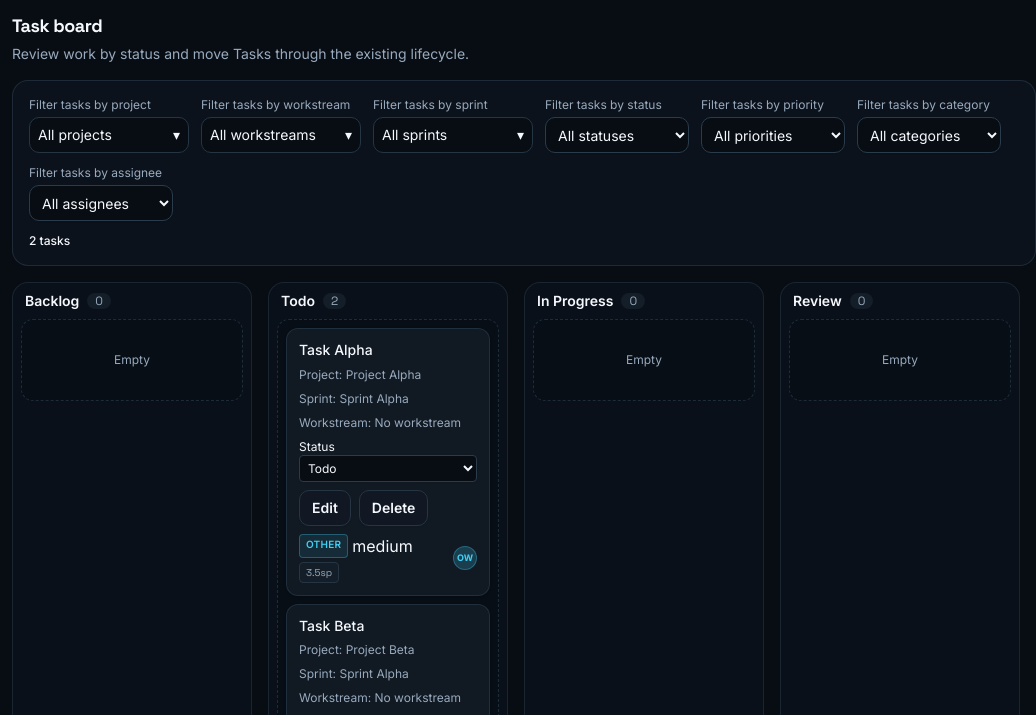
Projects UI with a mocked backend › labels task cards by project and filters by any project or all projects
Expected: the text "Project: Project Alpha" is shown, [299,366,421,382]
Expected: the text "Project: Project Beta" is shown, [299,642,414,657]
Click the button with aria-label "Filter tasks by project".
click(109, 135)  # box [29,117,189,153]
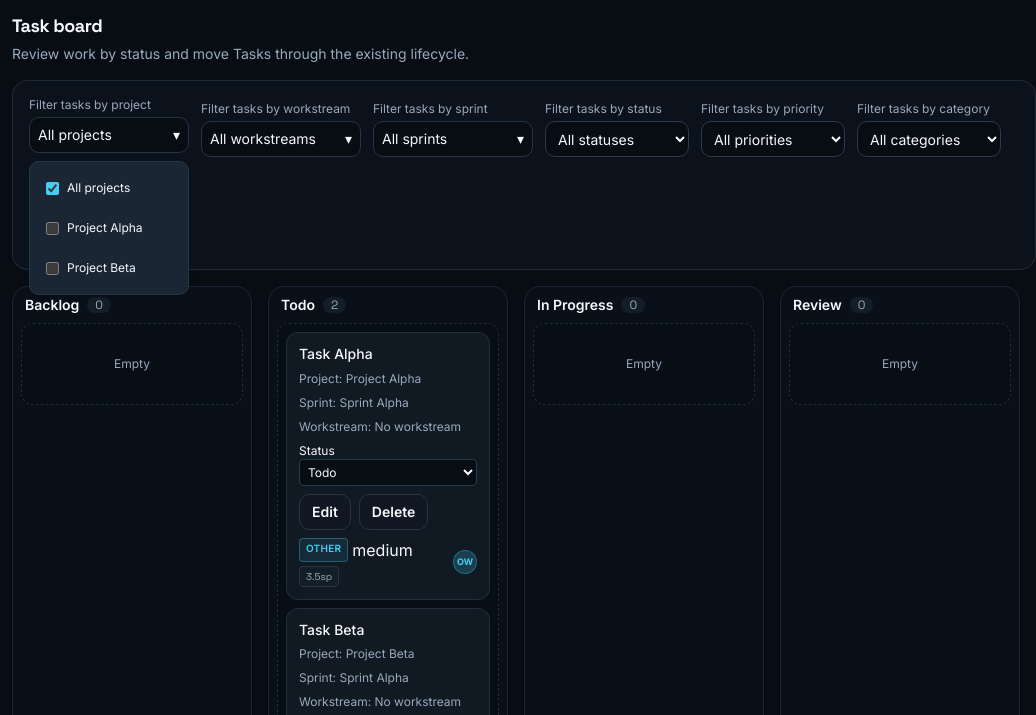
Expected: the checkbox labelled "All projects" is checked, [46,182,59,194]
Expected: the checkbox labelled "Project Alpha" is not checked
Expected: the checkbox labelled "Project Beta" is not checked, [46,262,59,274]
Click the checkbox labelled "Project Alpha".
click(52, 228)  # box [46,222,59,234]
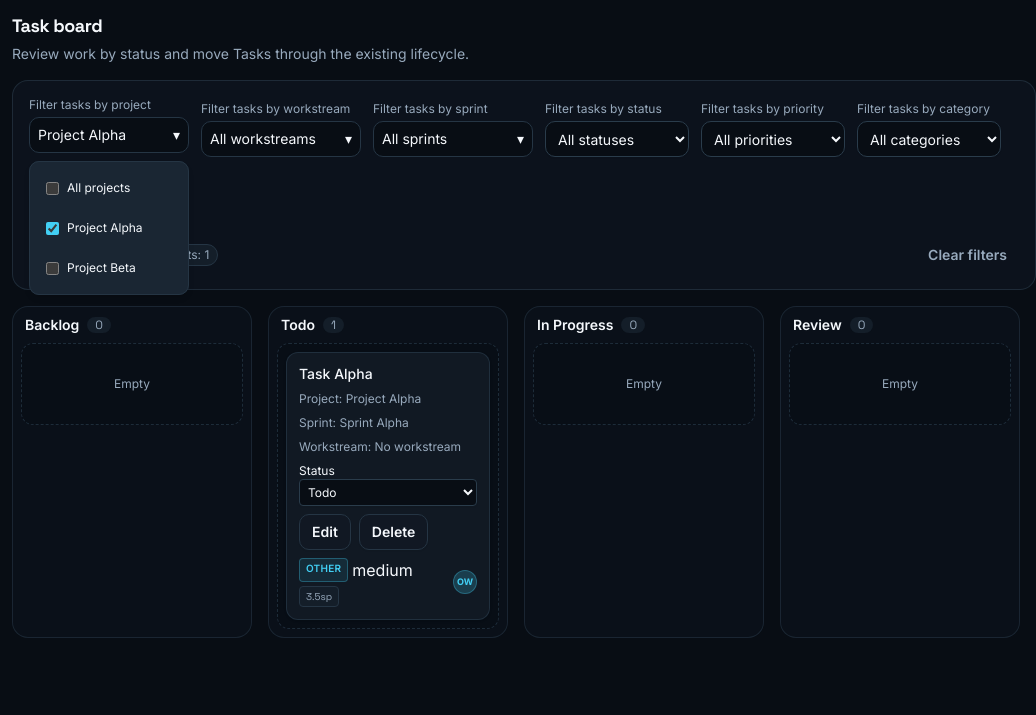
Expected: the text "Task Alpha" is shown, [299,365,373,382]
Expected: the checkbox labelled "All projects" is not checked, [46,182,59,194]
Expected: the text "Task Beta" is gone
Click the checkbox labelled "Project Beta".
click(52, 268)  # box [46,262,59,274]
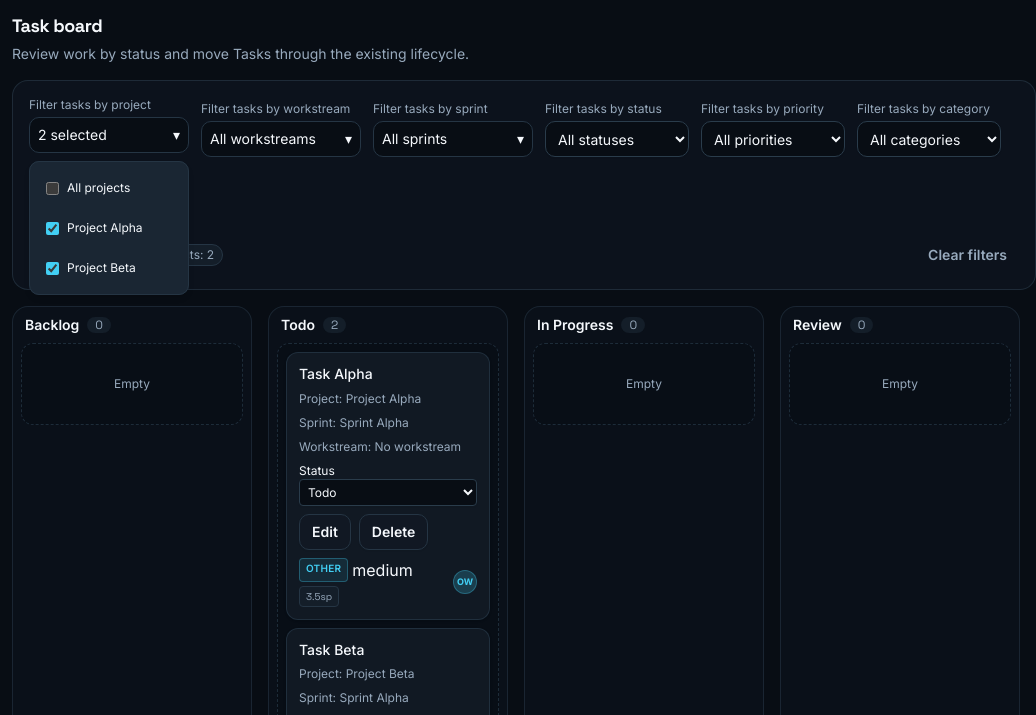
Expected: the text "Task Alpha" is shown, [299,365,373,382]
Expected: the text "Task Beta" is shown, [299,640,364,658]
Click the checkbox labelled "Project Alpha".
click(52, 228)  # box [46,222,59,234]
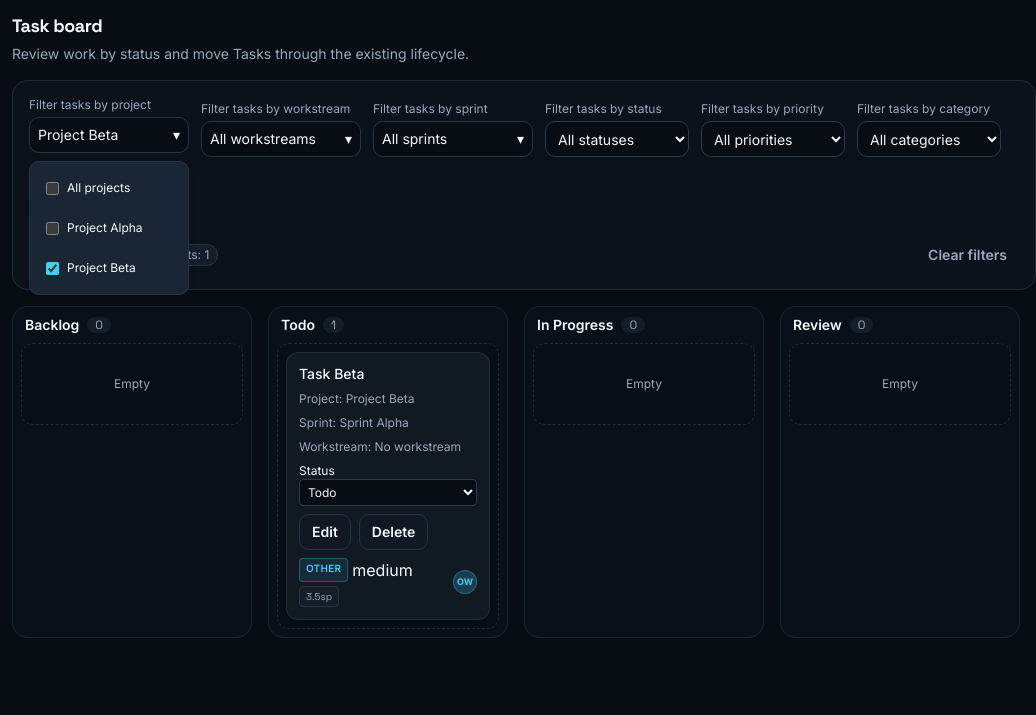
Expected: the text "Task Beta" is shown, [299,365,364,382]
Expected: the text "Task Alpha" is gone
Click the checkbox labelled "All projects".
click(52, 188)  # box [46,182,59,194]
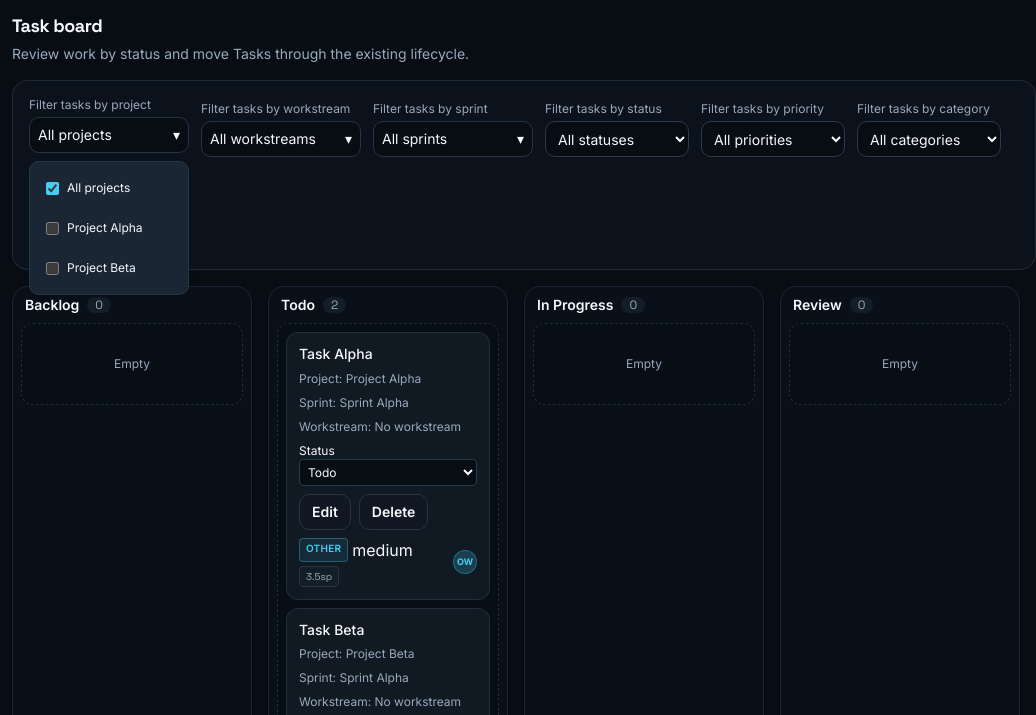
Expected: the checkbox labelled "All projects" is checked, [46,182,59,194]
Expected: the text "Task Beta" is shown, [299,620,364,638]
Expected: the text "Task Alpha" is shown, [299,345,373,362]
